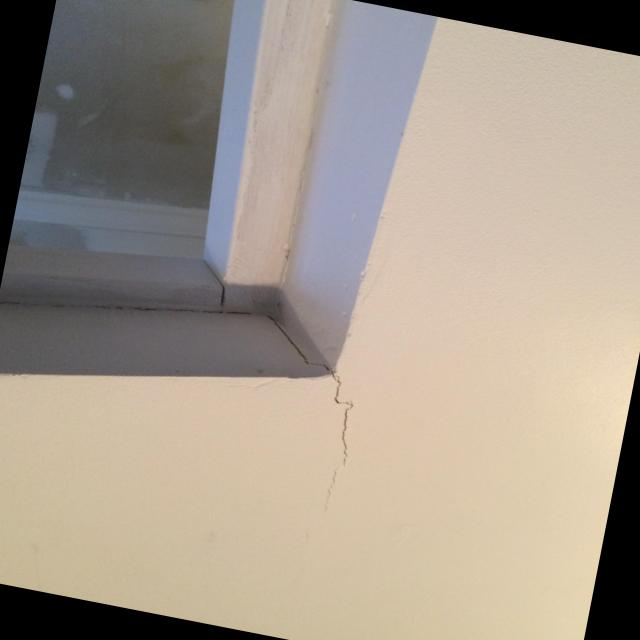crack: (264, 318, 357, 520), (0, 298, 247, 318)
